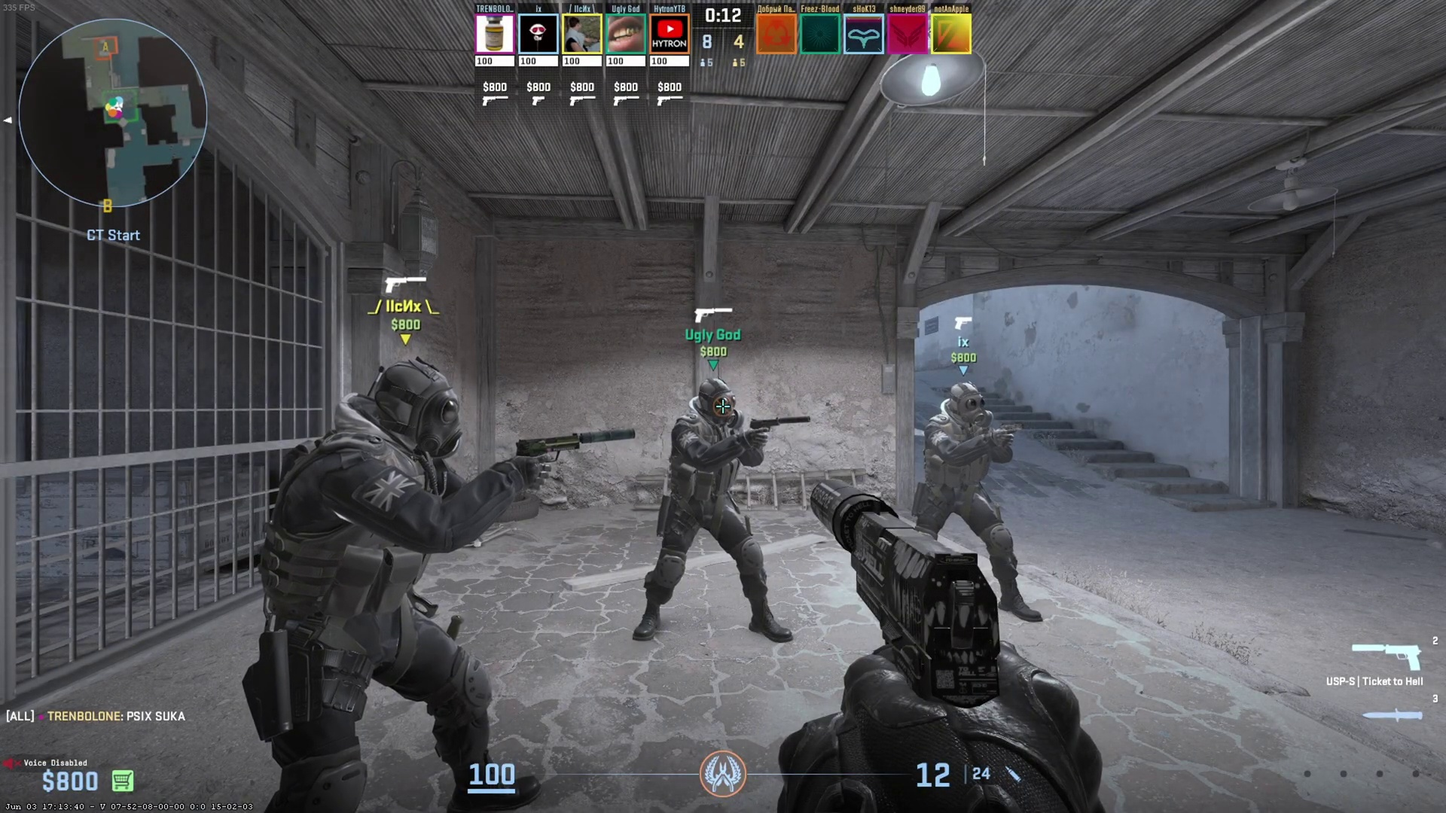CT: (267, 363, 540, 811), (633, 378, 792, 641), (916, 383, 1042, 618)
